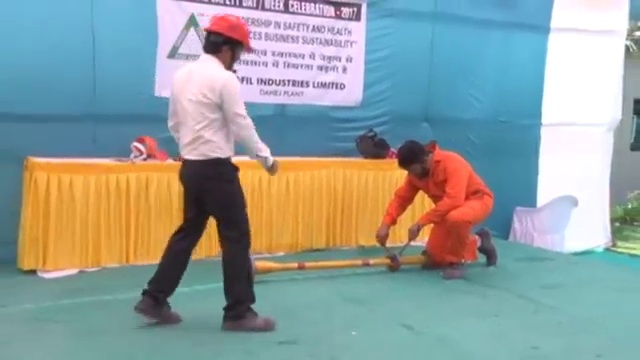helmet: (203, 12, 256, 53)
helmet_off: (396, 139, 434, 178)
helmet_on: (201, 13, 256, 70)
person: (131, 9, 282, 336), (379, 140, 496, 276)
